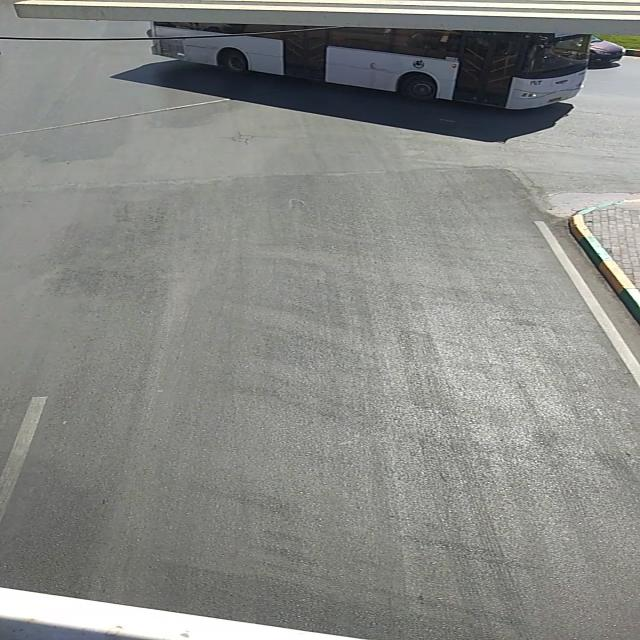bus: (150, 22, 596, 110)
